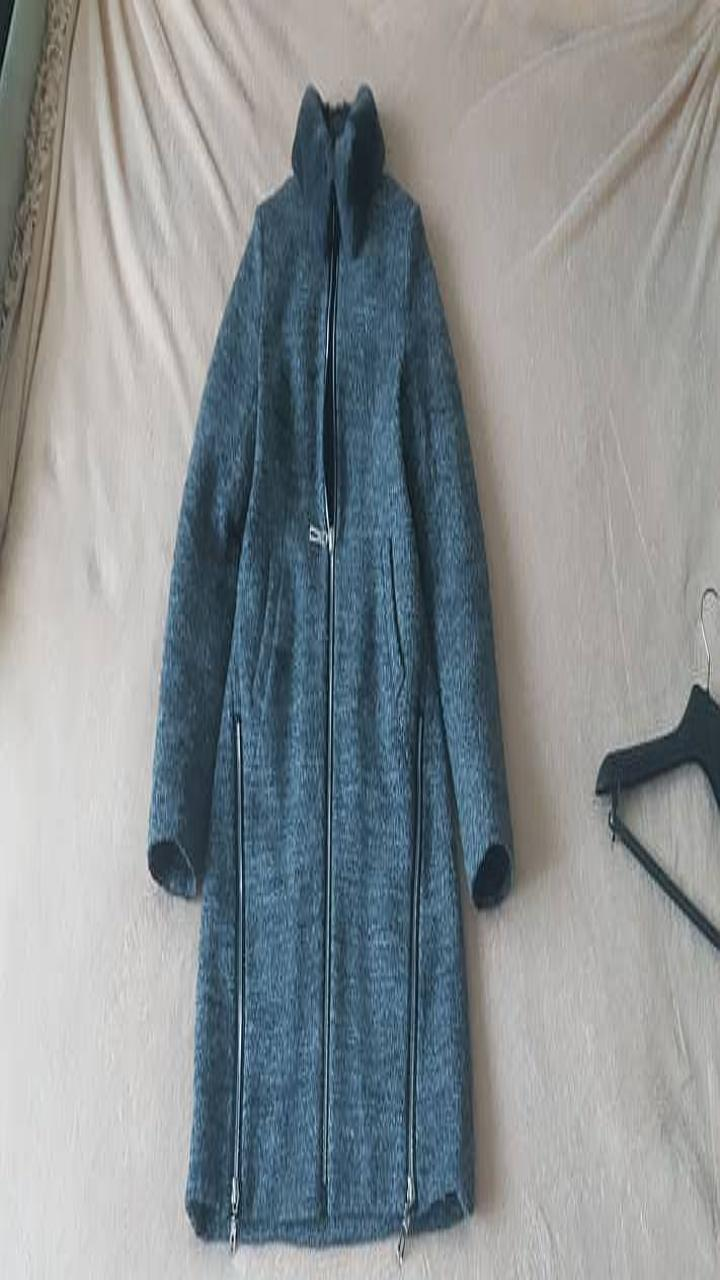Coat: (148, 85, 512, 1259)
